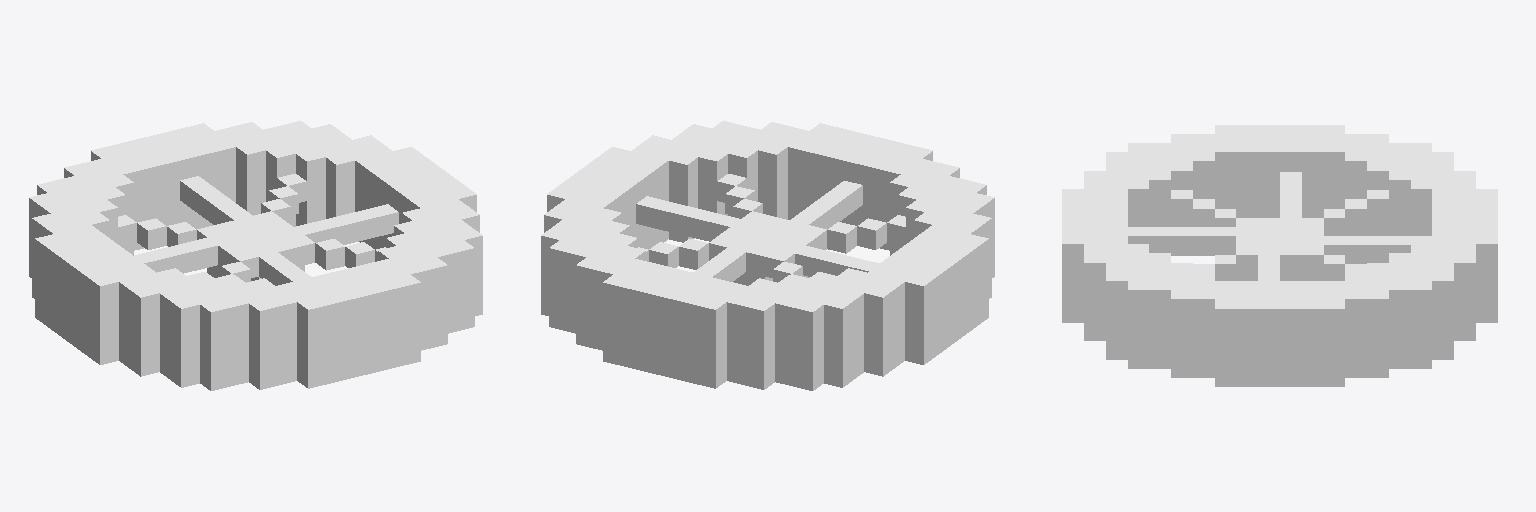
File: alley_assets-7.obj
3 renders of one model, left to right at view 1: azimuth 30°, elevation 25°; view 2: azimuth 150°, elevation 25°; view 3: azimuth 270°, elevation 25°, orthographic.
Parts seen in each view (by area): view 1: object 1; view 2: object 1; view 3: object 1.
Part boxes in pixels (x1,y1,x2,y2): object 1: (29, 121, 482, 390); object 1: (541, 121, 994, 390); object 1: (1062, 125, 1497, 386).
Size of the model in its own units: 2 by 0.4 by 2.